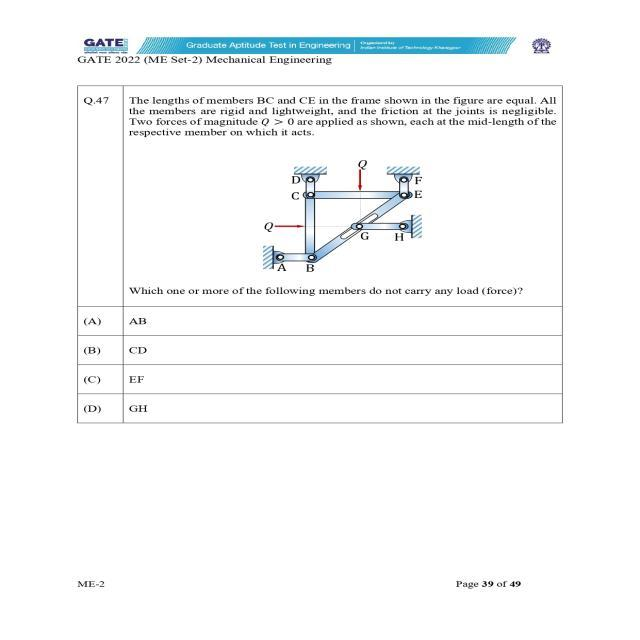Answer_Block: (45, 314, 602, 432)
Question_Answer_Block: (45, 79, 602, 432)
Question_Block: (45, 79, 602, 312)
Question_Paper_Area: (45, 79, 602, 489)
